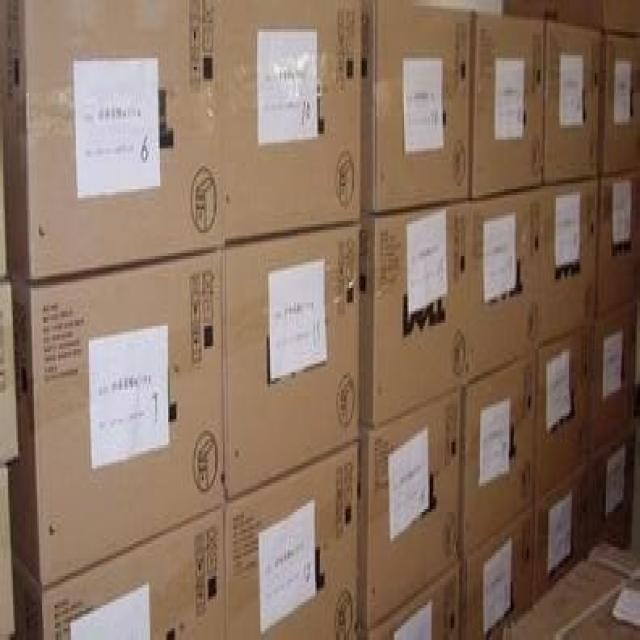box: (6, 245, 226, 591), (0, 0, 224, 284), (226, 223, 361, 499), (217, 1, 362, 235), (10, 498, 225, 637), (224, 441, 358, 637), (357, 385, 463, 631), (357, 200, 469, 425), (361, 3, 472, 214), (460, 351, 536, 559), (467, 185, 541, 383), (470, 16, 546, 196), (499, 541, 637, 637), (533, 325, 597, 496), (460, 497, 533, 637), (540, 172, 597, 348), (543, 25, 602, 183), (533, 461, 593, 601), (356, 558, 462, 637), (592, 295, 636, 453), (595, 167, 638, 315), (591, 425, 634, 555), (600, 36, 638, 172), (0, 279, 18, 464), (557, 1, 638, 38), (0, 464, 16, 637), (503, 1, 557, 25)
